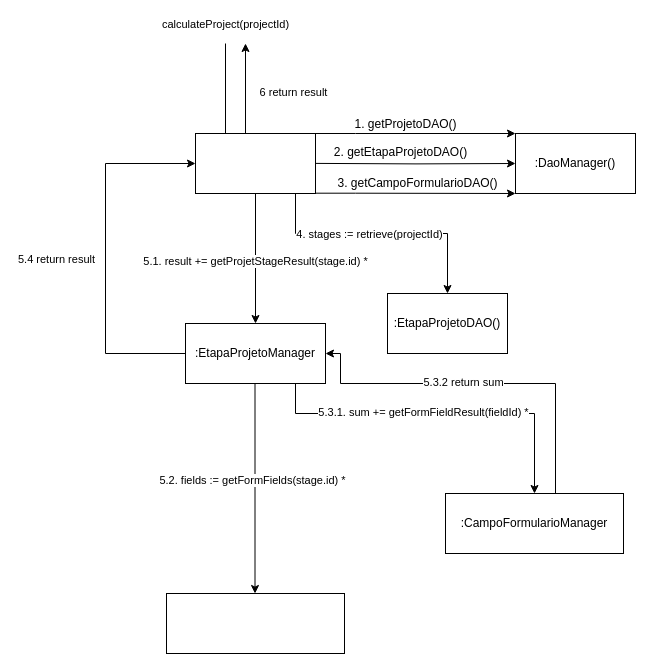
The diagram is 653 pixels wide and 671 high, and some of its shapes have lost their labels. Here are the shapes that lost their labels. From the top down, the centre of each, then its label:
At point (255, 163): ":ProjetoManager".
At point (255, 623): ":FormularioManager".
